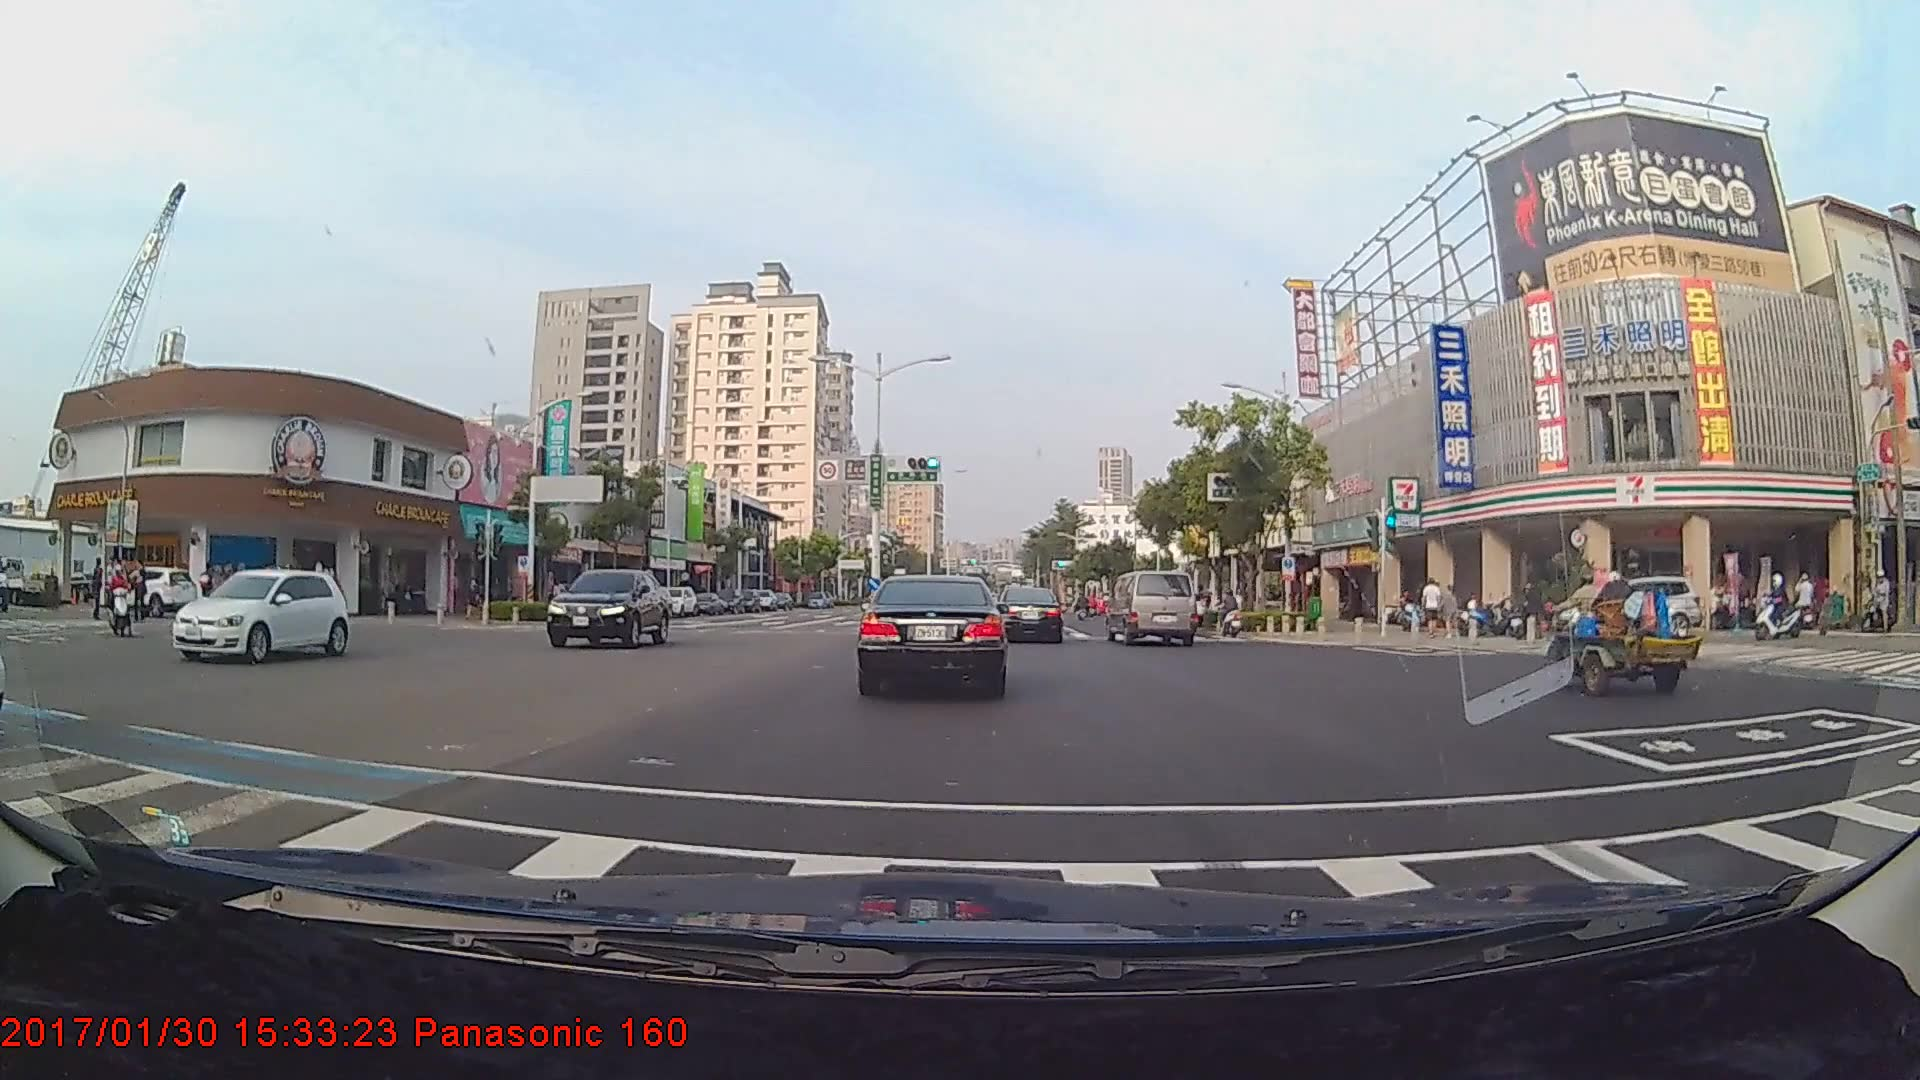pedestrian: (1421, 577, 1444, 639), (464, 573, 485, 623)
rider: (1750, 570, 1811, 645), (99, 560, 143, 638), (1215, 586, 1254, 643)
vehicle: (859, 569, 1008, 696), (168, 565, 351, 666), (1551, 574, 1701, 640), (548, 566, 669, 648), (1108, 570, 1195, 646), (995, 585, 1062, 643)
